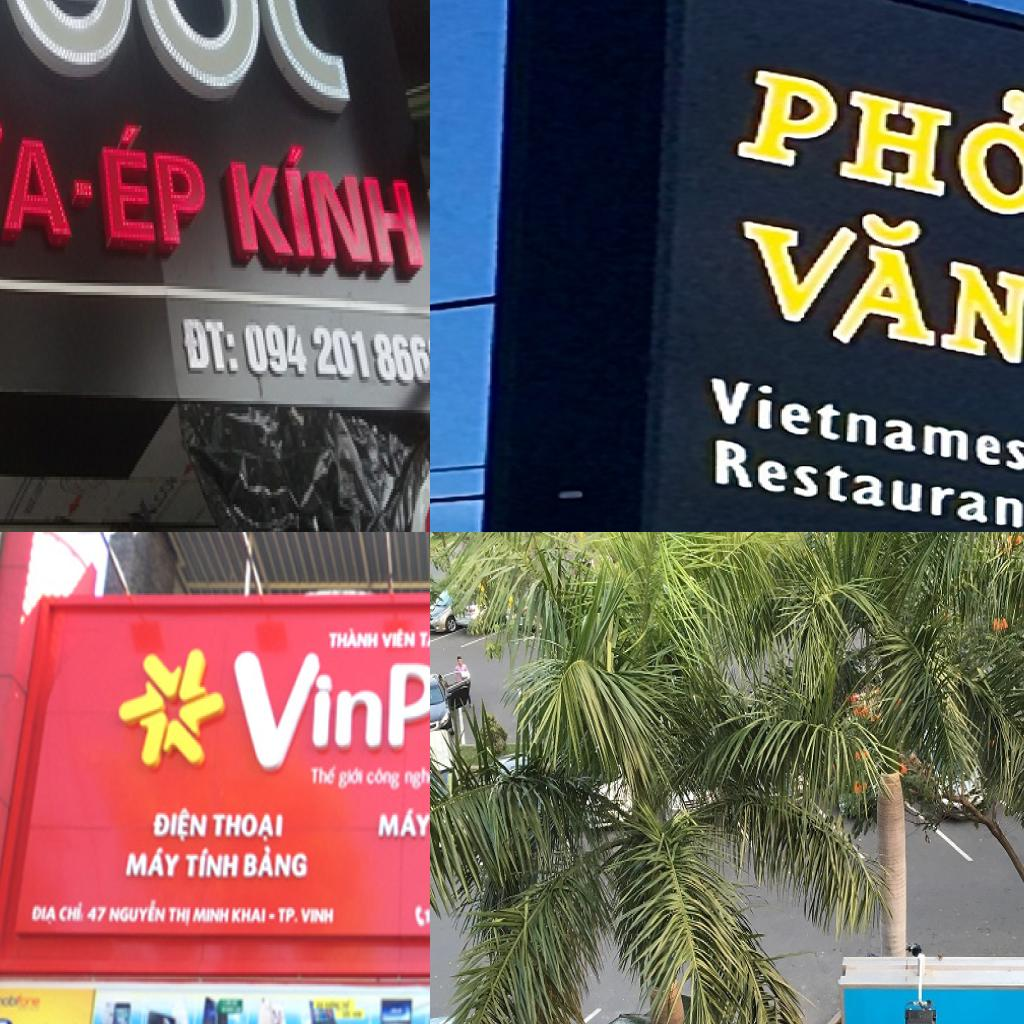text: (718, 34, 1024, 233), (725, 185, 1024, 381), (0, 0, 353, 128), (693, 367, 1024, 485), (216, 131, 430, 279), (225, 646, 430, 774), (94, 107, 210, 265), (0, 64, 75, 252), (171, 310, 248, 383), (239, 313, 313, 383), (313, 316, 374, 386), (372, 322, 430, 394), (240, 844, 311, 883), (210, 810, 284, 844), (122, 844, 183, 882), (150, 807, 210, 844), (182, 846, 241, 882), (374, 803, 430, 840), (105, 898, 167, 928), (328, 626, 379, 650), (190, 902, 232, 928), (380, 626, 419, 651), (365, 766, 402, 791), (229, 904, 268, 926), (301, 906, 338, 928), (0, 992, 42, 1011), (58, 900, 86, 928), (403, 765, 430, 792), (337, 766, 365, 790), (310, 766, 340, 788), (32, 902, 59, 926), (168, 902, 191, 929), (85, 902, 110, 926), (277, 902, 300, 926), (420, 627, 430, 656), (268, 912, 277, 921)
